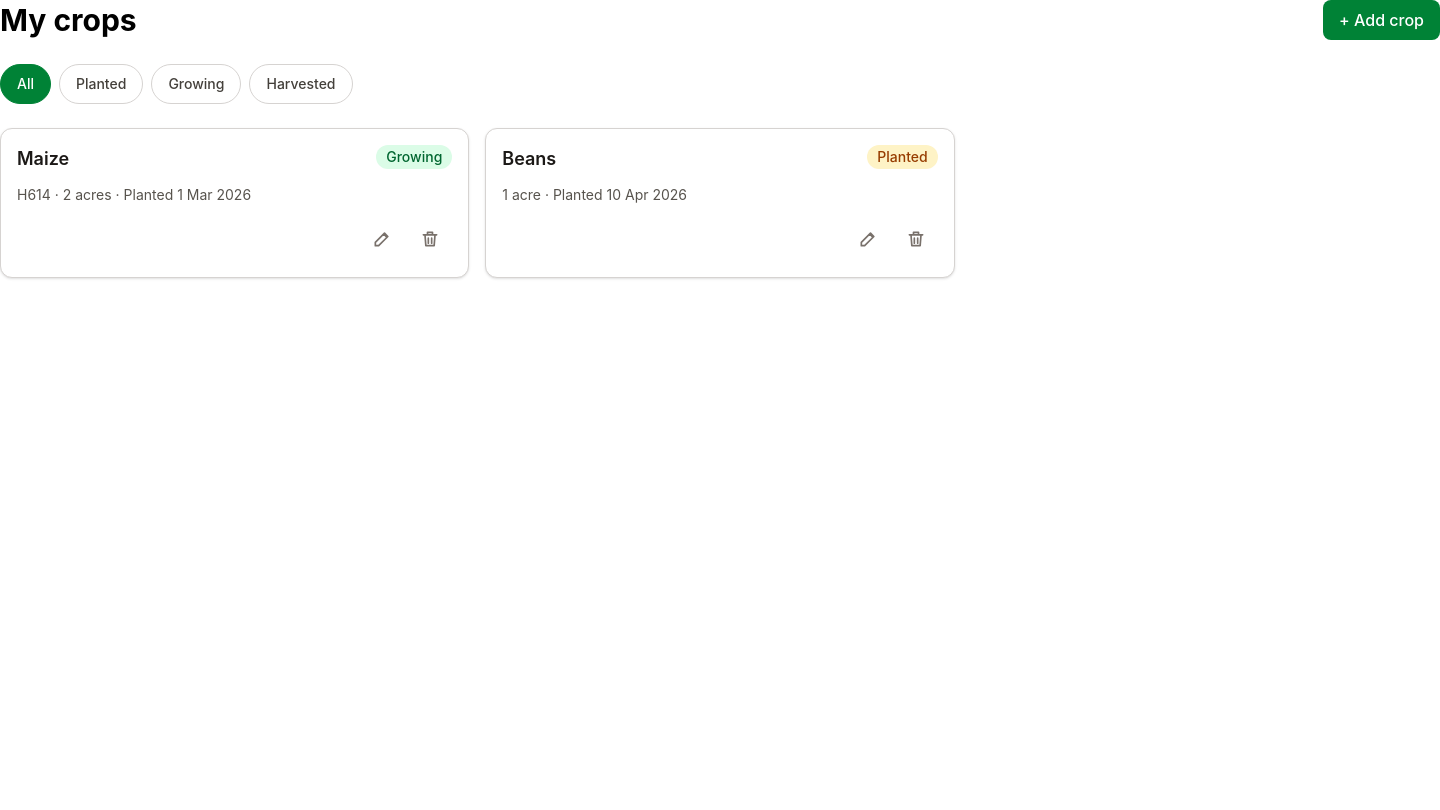
Test: Crops page › closes the dialog and shows the toast immediately after confirming delete
Click the button named "Delete Maize".
click(430, 239)  # box [408, 217, 452, 261]
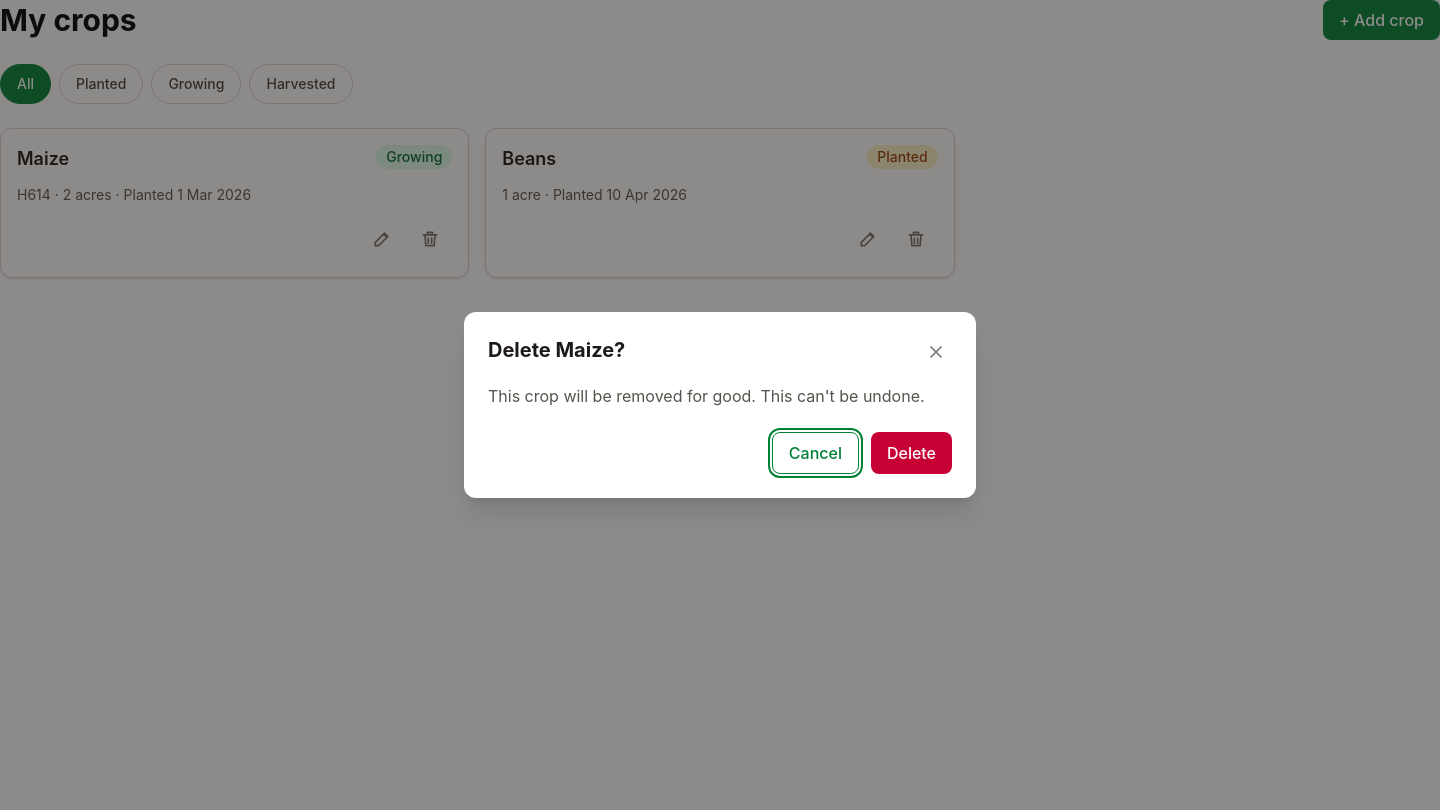
Click the button "Delete".
click(911, 453)  # box [871, 432, 952, 474]
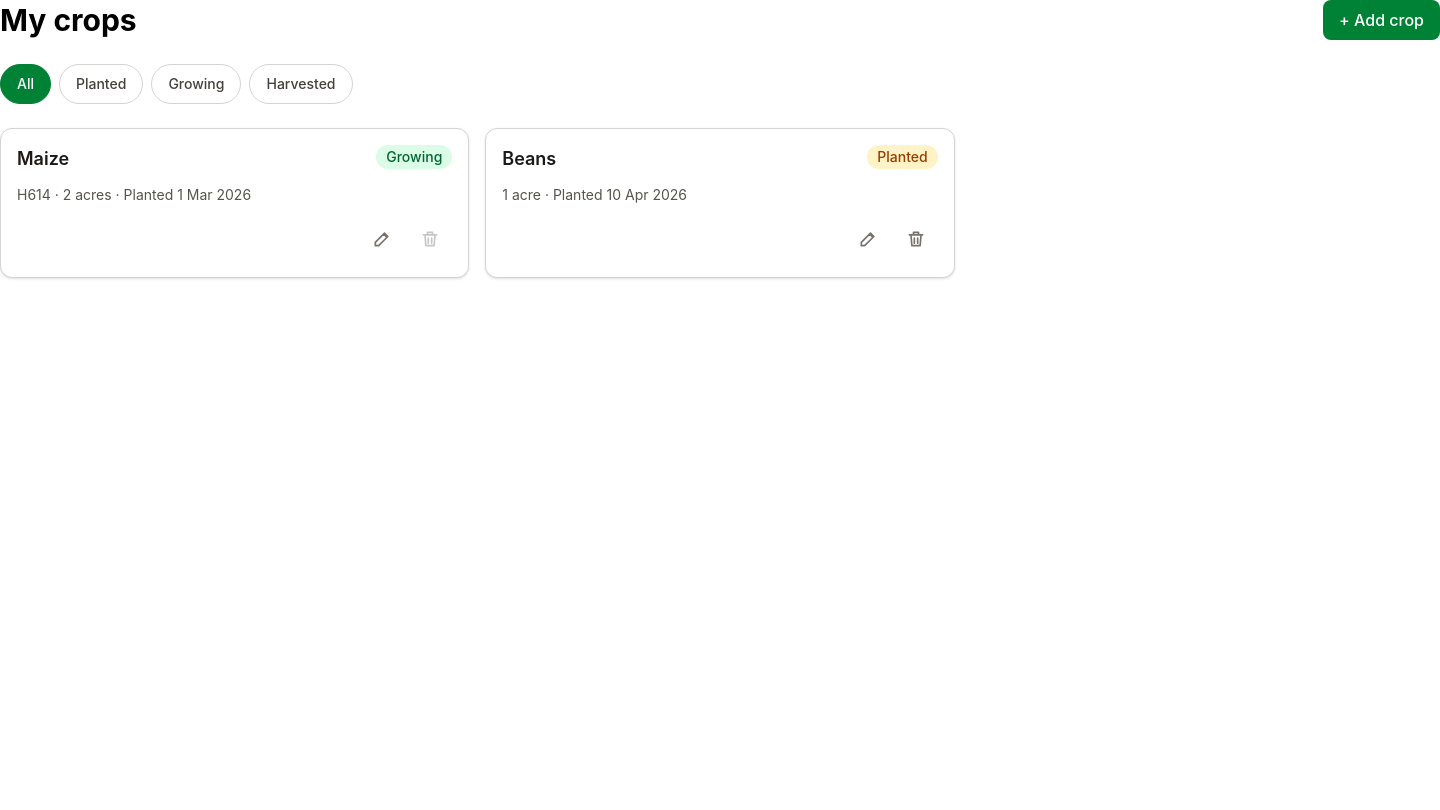
Expected: the dialog is gone
Expected: the button named "Delete Maize" is disabled, [408, 217, 452, 261]
